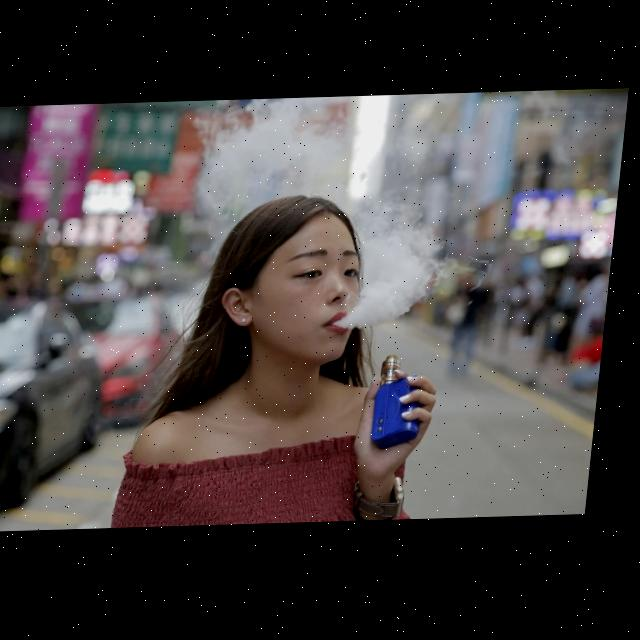vape: (381, 358, 433, 452)
